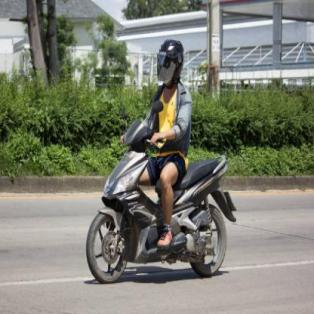Motocicleta: (84, 114, 232, 286)
